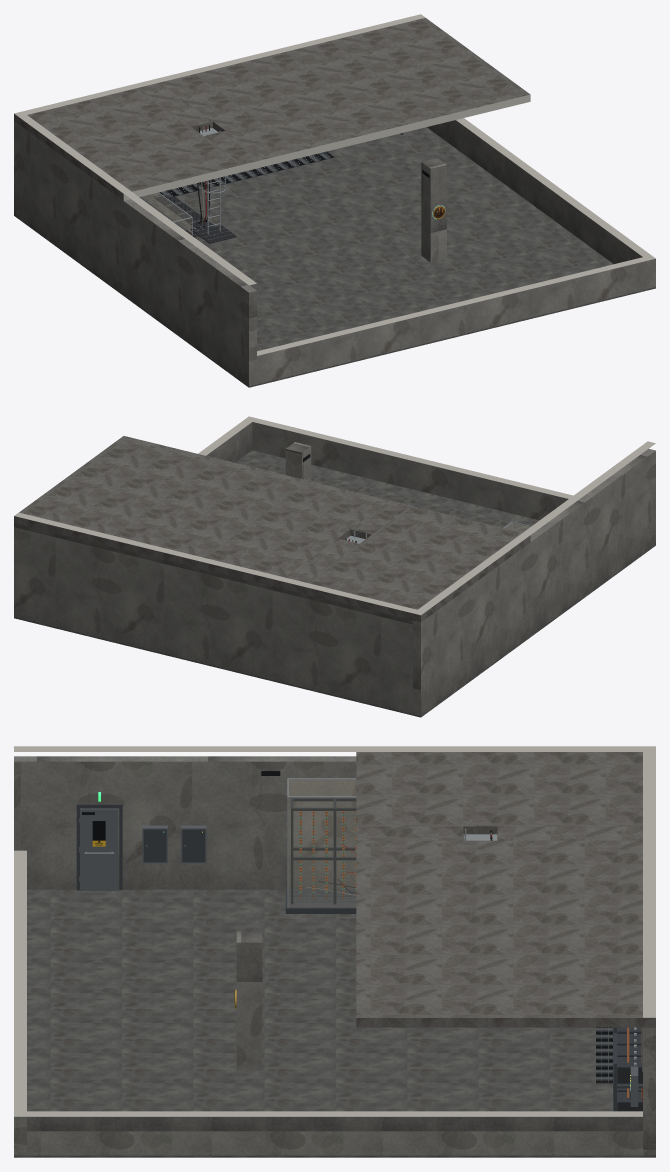
Rendered from int-subsolo-central-energia.glb.
3 views of the same model, one above another, from view 1: azimuth 30°, elevation 25°; view 2: azimuth 150°, elevation 25°; view 3: azimuth 270°, elevation 25° (orthographic). The views are drawn at different scales.
Visible parts, largest first — view 1: piso, teto_b, parede_esquerda, teto_a, parede_frente_corte, parede_direita_corte, teto_corte, pilar, parede_fundo_corte_topo, parede_frente_corte_topo, parede_esquerda_corte_topo, parede_direita_corte_topo (+5 smaller); view 2: parede_fundo, teto_b, parede_esquerda, teto_a, parede_frente_corte, piso, parede_fundo_corte_topo, parede_esquerda_corte_topo, parede_frente_corte_topo, teto_c, teto_d, parede_direita_corte (+1 smaller); view 3: piso, teto_b, parede_esquerda, parede_direita_corte, teto_a, distribuidor_redoma, parede_esquerda_corte_topo, pilar, parede_direita_corte_topo, parede_frente_corte_topo, parede_fundo_corte_topo, porta_folha (+12 smaller).
Part boxes in pixels (x1,y1,x2,y2): piso: (14, 127, 655, 387); teto_b: (160, 18, 530, 159); parede_esquerda: (14, 121, 256, 386); teto_a: (14, 88, 242, 200); parede_frente_corte: (257, 258, 655, 384); parede_direita_corte: (427, 120, 642, 263); teto_corte: (123, 94, 530, 200); pilar: (421, 158, 446, 262); parede_fundo_corte_topo: (22, 14, 425, 114); parede_frente_corte_topo: (257, 255, 655, 355); parede_esquerda_corte_topo: (14, 111, 256, 285); parede_direita_corte_topo: (456, 118, 650, 256); parede_fundo: (14, 523, 412, 713); teto_b: (14, 436, 388, 587); parede_esquerda: (413, 449, 655, 715); teto_a: (301, 506, 530, 622); parede_frente_corte: (252, 422, 568, 520); piso: (14, 450, 655, 717); parede_fundo_corte_topo: (14, 512, 417, 613); parede_esquerda_corte_topo: (413, 441, 655, 615); parede_frente_corte_topo: (244, 416, 573, 498); teto_c: (280, 538, 359, 593); teto_d: (350, 500, 410, 538); parede_direita_corte: (206, 422, 252, 462); piso: (14, 889, 655, 1157); teto_b: (356, 840, 655, 1027); parede_esquerda: (14, 756, 356, 889); parede_direita_corte: (27, 1117, 642, 1155); teto_a: (356, 752, 642, 835); distribuidor_redoma: (289, 780, 355, 907); parede_esquerda_corte_topo: (14, 746, 655, 751); pilar: (236, 931, 262, 1070); parede_direita_corte_topo: (27, 1111, 642, 1116); parede_frente_corte_topo: (14, 850, 26, 1116); parede_fundo_corte_topo: (643, 752, 655, 1017); porta_folha: (80, 808, 118, 890).
Bounding box in the file's own units: 15 × 3.6 × 15.
28 materials, 6 textured.
